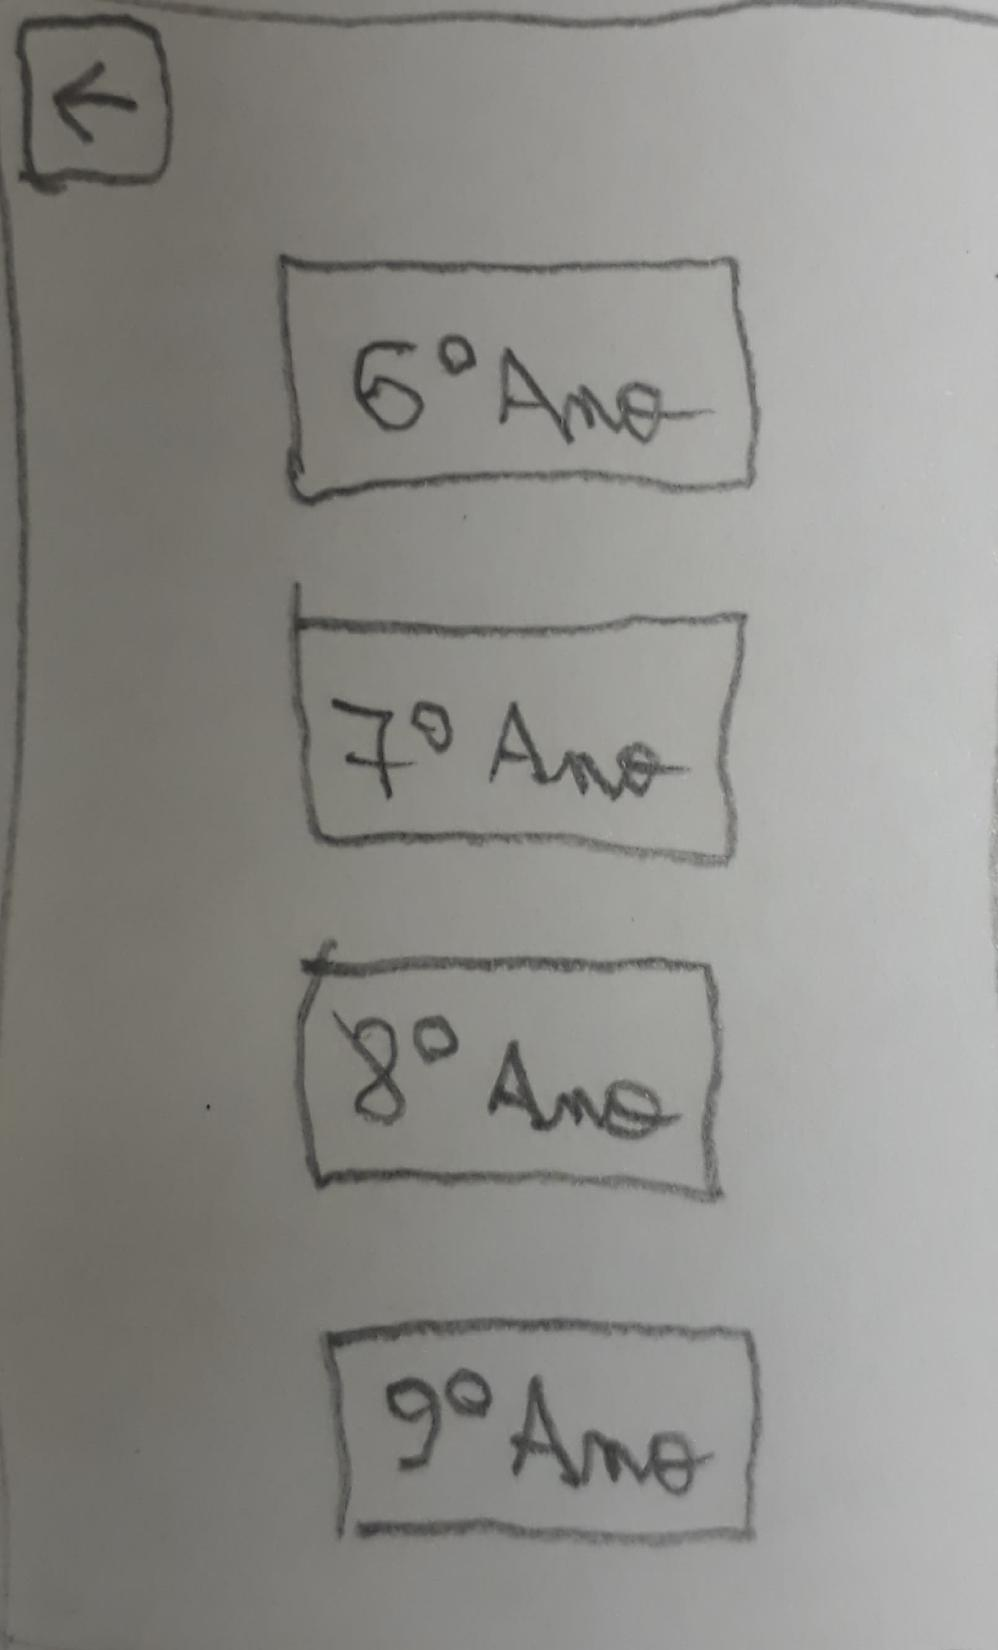Button: (278, 249, 764, 507), (286, 603, 751, 869), (286, 956, 727, 1206), (317, 1325, 762, 1547), (13, 16, 176, 189)
Screen: (1, 1, 997, 1645)
